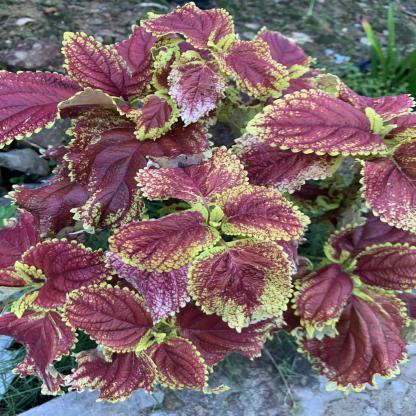Bunga Coleus: (28, 32, 413, 377)
